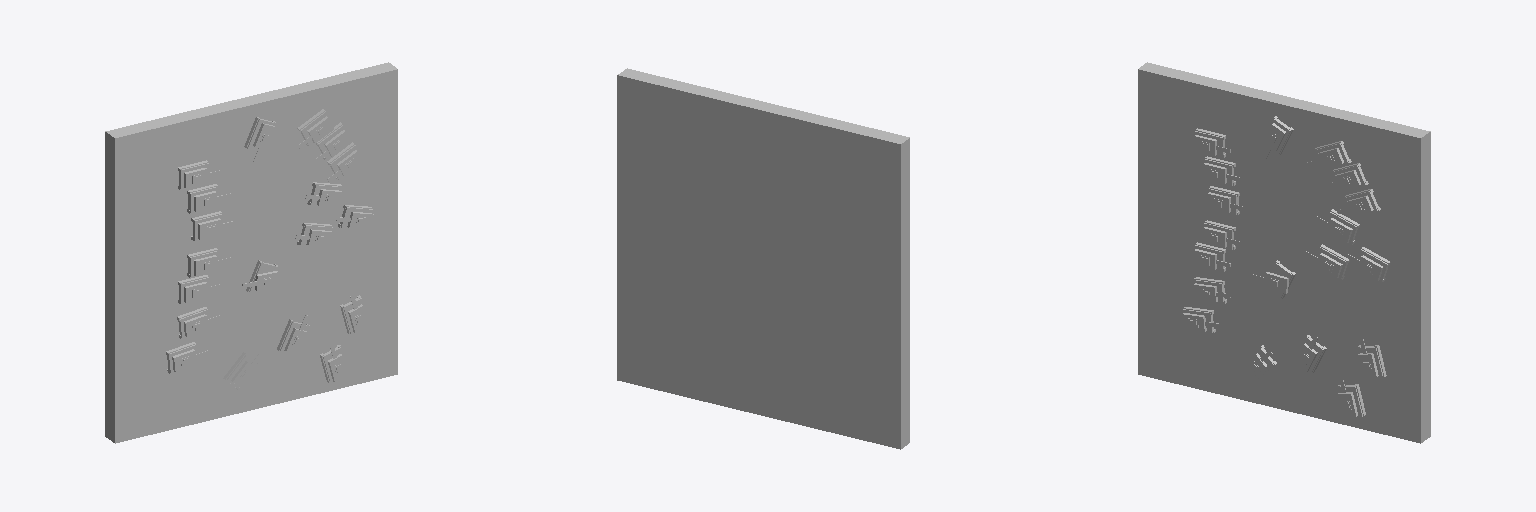
File: a_lot_of_tanks.obj
3 renders of one model, left to right at view 1: azimuth 30°, elevation 25°; view 2: azimuth 150°, elevation 25°; view 3: azimuth 330°, elevation 25°, orthographic.
Visible parts, largest first — view 1: obj_0; view 2: obj_0; view 3: obj_0.
Boxes of the visible parts, <box> form: obj_0: <box>105,62,397,443</box>; obj_0: <box>617,68,909,449</box>; obj_0: <box>1138,62,1430,443</box>.
Bounding box in the file's own units: 208 × 214 × 22.4.